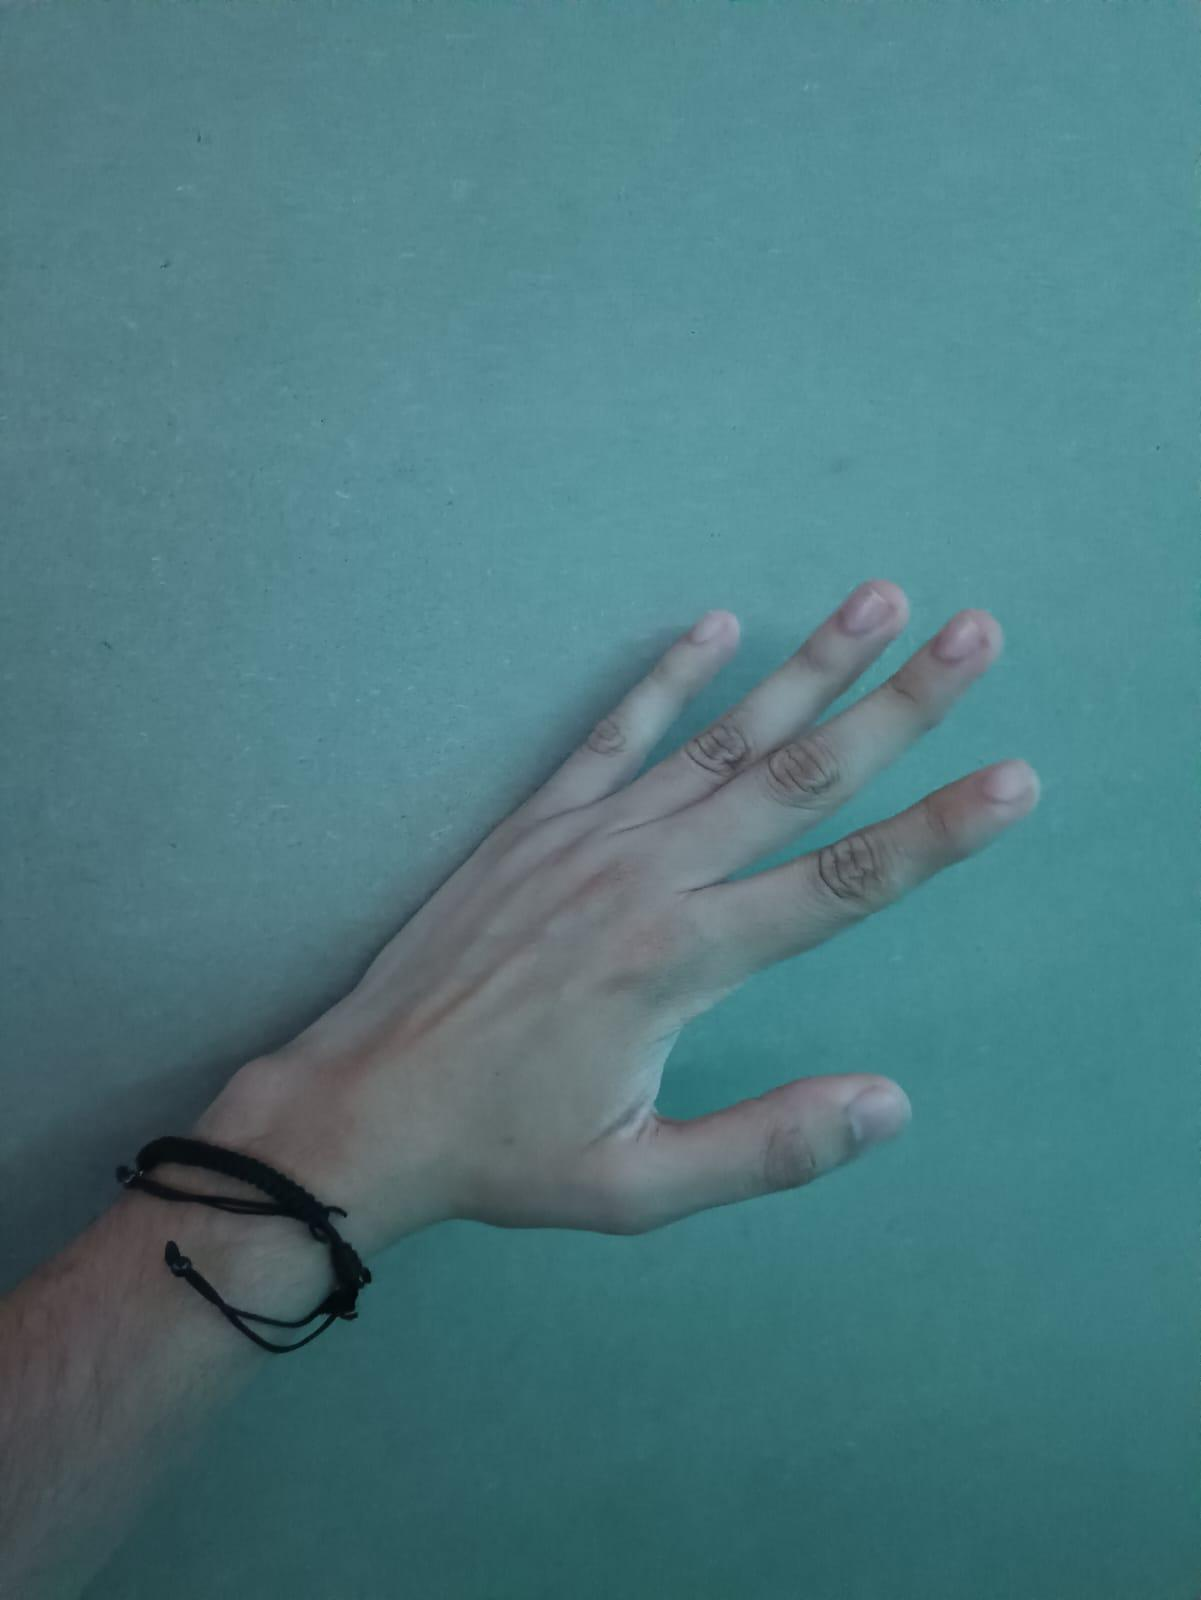Paper: (103, 540, 1116, 1316)
